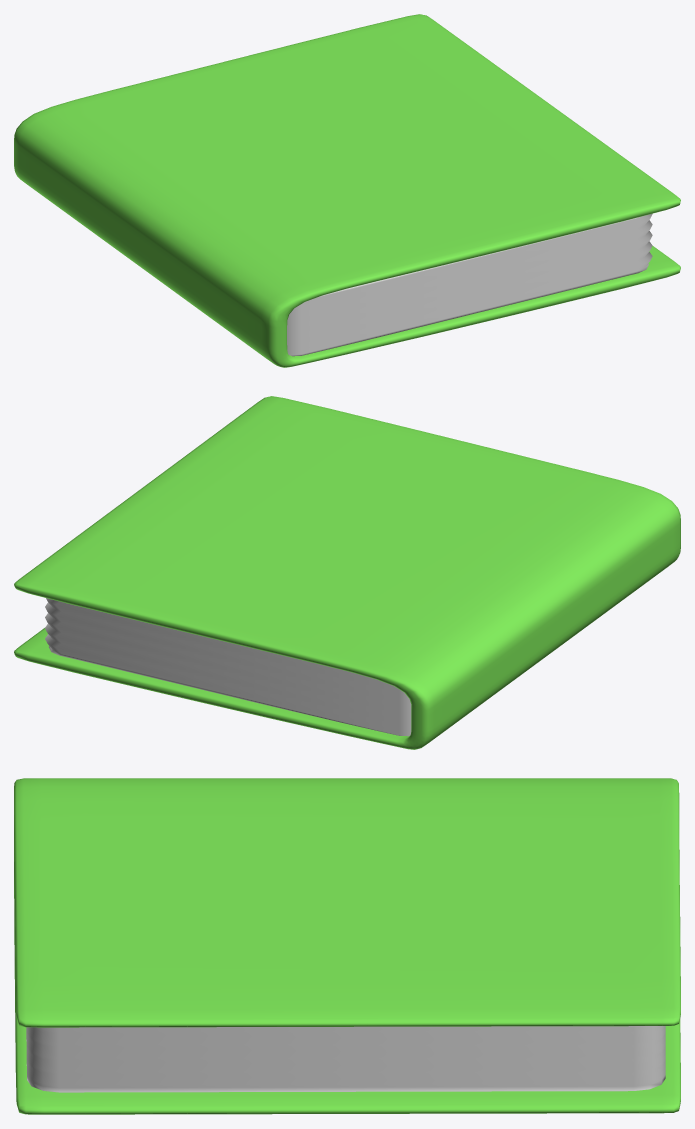
The model's file is kirja2.fbx.
The picture shows the model from 3 angles, top to bottom: view 1: azimuth 30°, elevation 25°; view 2: azimuth 150°, elevation 25°; view 3: azimuth 270°, elevation 25°; orthographic projection. The views are drawn at different scales.
Visible parts, largest first — view 1: kirja.001, sivut.001; view 2: kirja.001, sivut.001; view 3: kirja.001, sivut.001.
Part boxes in pixels (bbox=[...]): kirja.001: bbox=[14, 14, 680, 367]; sivut.001: bbox=[287, 213, 652, 356]; kirja.001: bbox=[14, 396, 680, 749]; sivut.001: bbox=[45, 598, 411, 736]; kirja.001: bbox=[14, 778, 680, 1114]; sivut.001: bbox=[26, 1026, 665, 1092].
Size of the model in its own units: 23.59 by 4.15 by 25.42.
